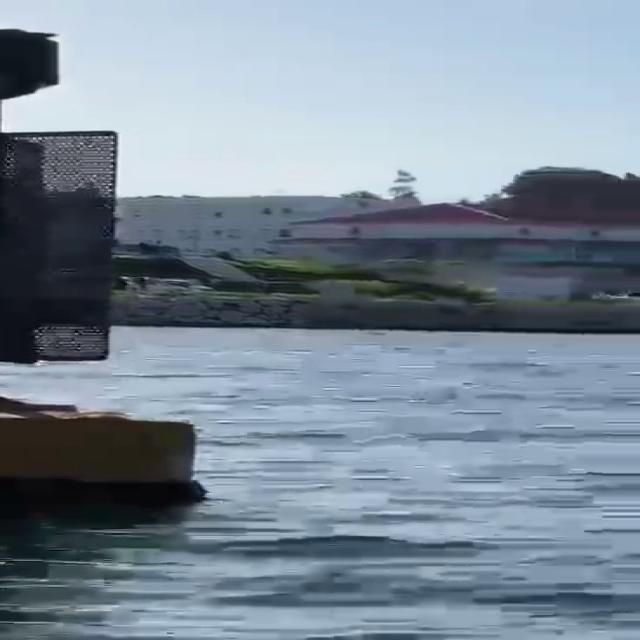marque: (1, 1, 200, 511)
